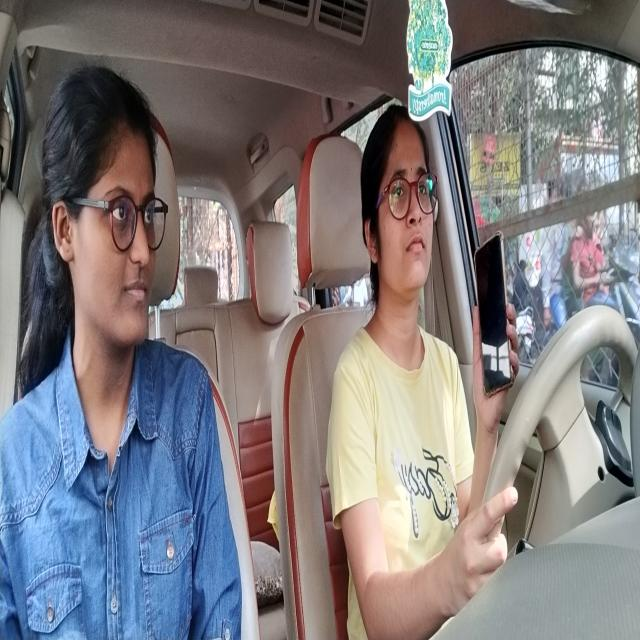mobile: (468, 230, 518, 398)
person: (29, 69, 178, 392), (362, 96, 441, 316)
